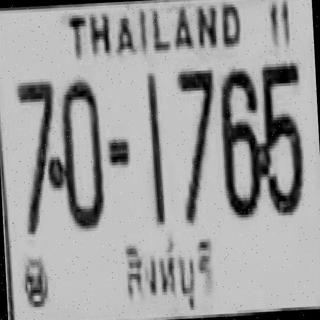N00: (56, 76, 105, 230)
N01: (144, 73, 164, 225), (145, 73, 164, 225)
N05: (258, 60, 306, 214)
N06: (218, 65, 265, 216)
N07: (14, 77, 60, 234), (176, 68, 219, 220), (176, 68, 218, 192)
P62: (117, 228, 219, 313)
